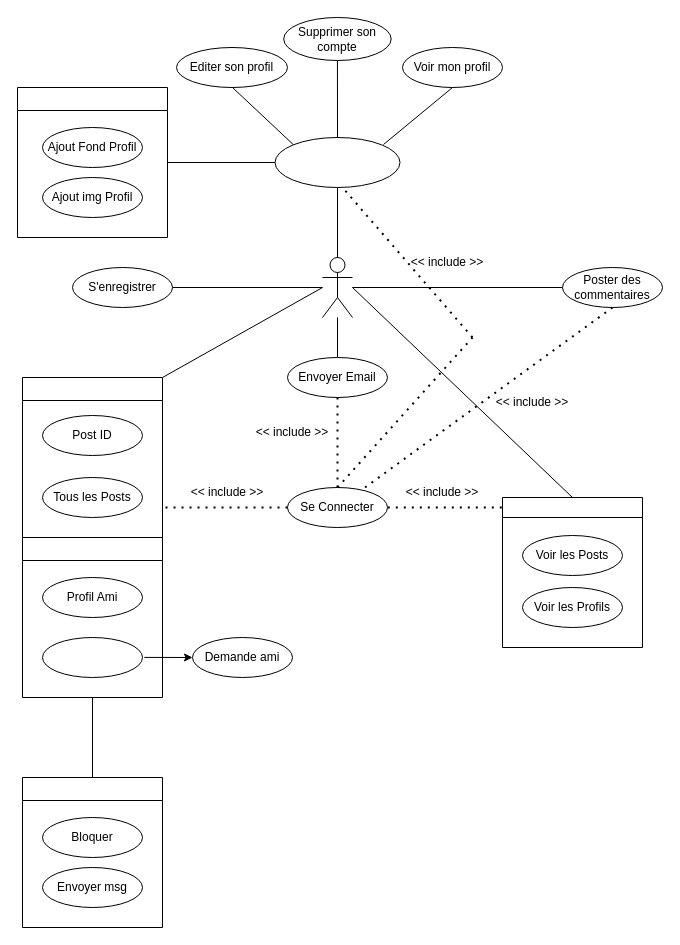
This 680x945 diagram has some shape labels left out. Each missing label, with the box of its shape:
Action: (22, 776, 162, 928)
Ajout Image: (16, 86, 168, 238)
Consulter Page Post: (22, 376, 162, 538)
Consulter Page Profil: (22, 536, 162, 698)
Effectuer une recherche: (502, 496, 642, 648)
Gérer son compte: (274, 136, 400, 188)
Profil non Ami: (42, 636, 142, 678)
Utilisateur: (322, 256, 352, 318)
